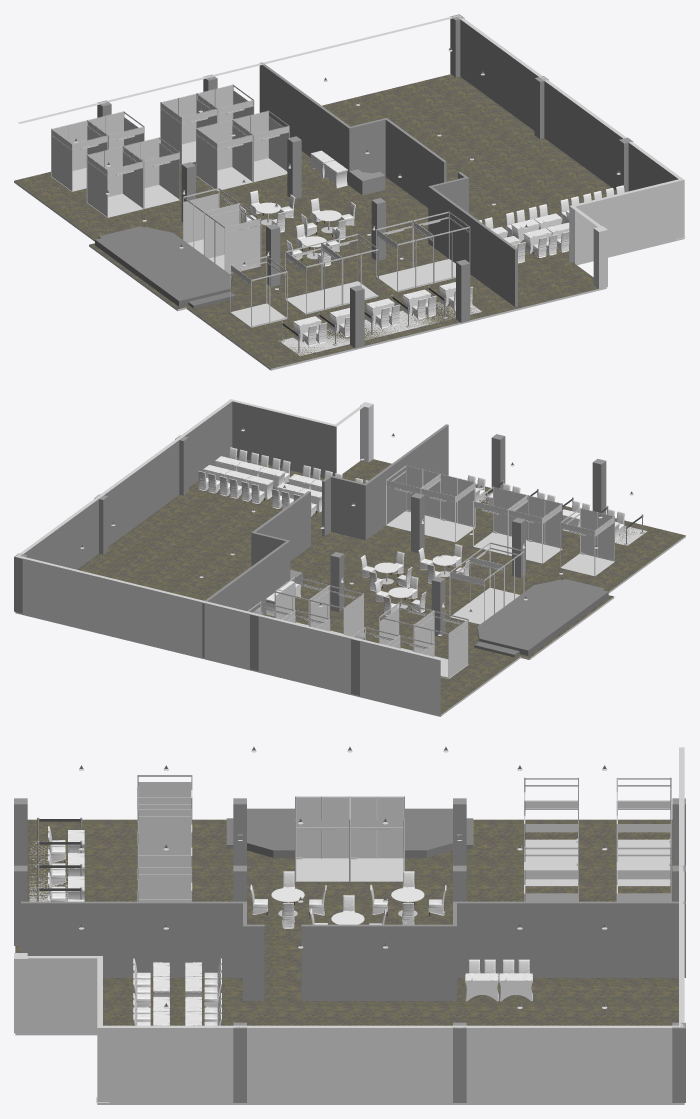
File: Kartika One.glb
3 views of the same model, one above another, from view 1: azimuth 30°, elevation 25°; view 2: azimuth 150°, elevation 25°; view 3: azimuth 270°, elevation 25° (orthographic). The views are drawn at different scales.
Visible parts, largest first — view 1: Geom3D (×3), Geom3D_ (×37); view 2: Geom3D_ (×30), Geom3D (×3); view 3: Geom3D_ (×25), Geom3D (×2).
Boxes of the visible parts, x1,y1,x2,y2 form: Geom3D (×3): [14, 19, 678, 368]; Geom3D_ (×37): [14, 14, 684, 370]; Geom3D_ (×30): [14, 399, 685, 716]; Geom3D (×3): [23, 401, 685, 714]; Geom3D_ (×25): [14, 747, 685, 1104]; Geom3D (×2): [15, 808, 678, 1025].
Size of the model in its own units: 24.95 by 3.1 by 24.5.
Materials: 10 (2 with a texture image).
